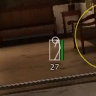hacks_1: (48, 36, 65, 72)
